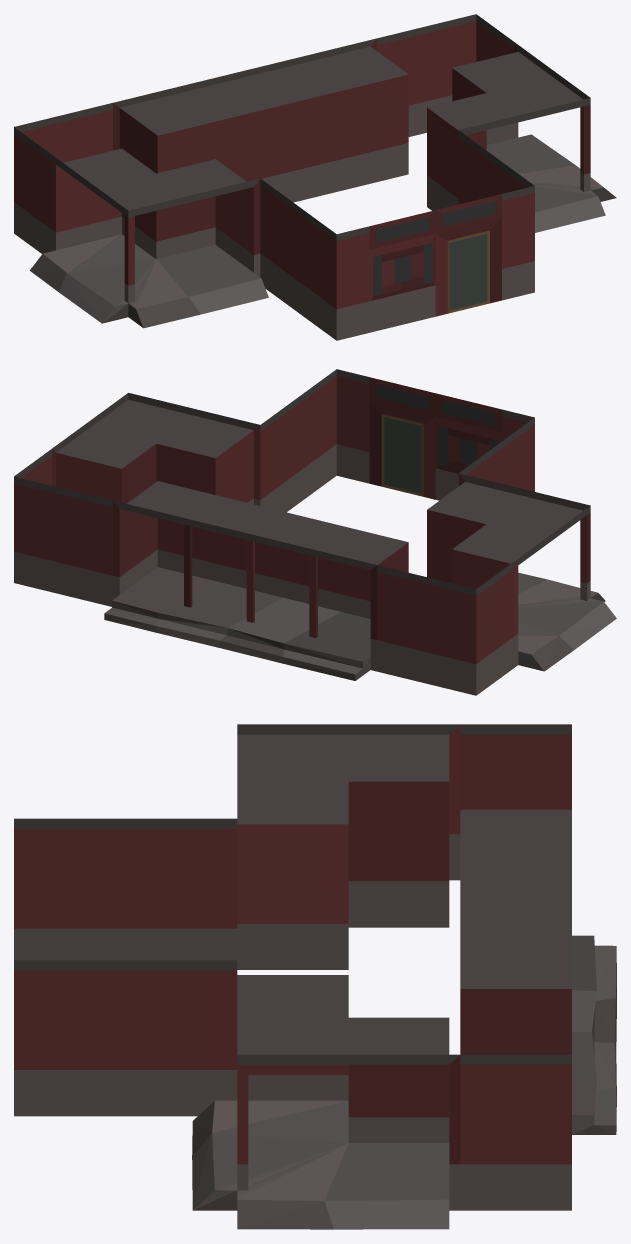
File: BuildingA-T_BLOD2.fbx
3 views of the same model, one above another, from view 1: azimuth 30°, elevation 25°; view 2: azimuth 150°, elevation 25°; view 3: azimuth 270°, elevation 25° (orthographic). The views are drawn at different scales.
Parts seen in each view (by area): view 1: BuildingA-T_BLOD2; view 2: BuildingA-T_BLOD2; view 3: BuildingA-T_BLOD2.
Boxes of the visible parts, bbox=[...] form: BuildingA-T_BLOD2: bbox=[14, 14, 616, 340]; BuildingA-T_BLOD2: bbox=[14, 369, 616, 695]; BuildingA-T_BLOD2: bbox=[14, 724, 616, 1229].
Size of the model in its own units: 1952 by 386 by 1351.
